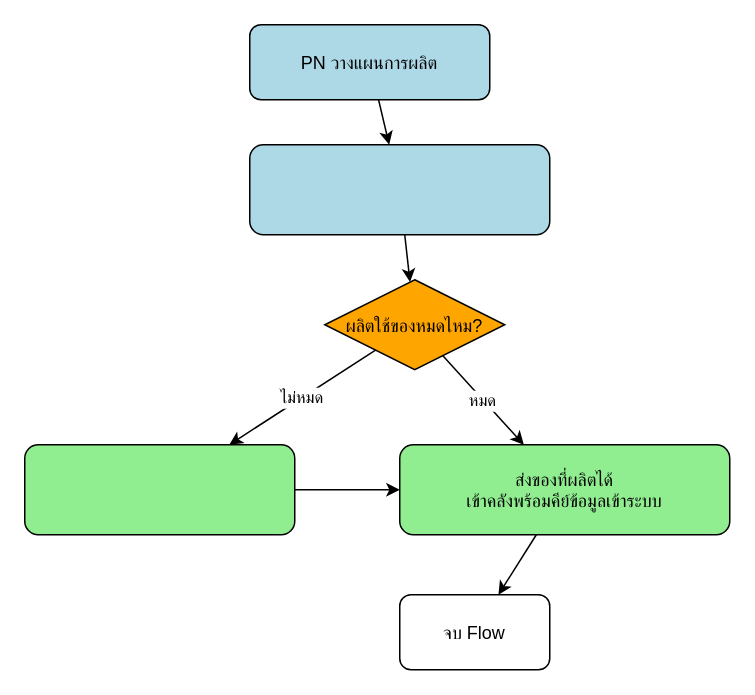
Image size: 755x695. Some labels were removed from this diagram. The centre of each missing label's shape, as x and y in pixels:
PD เบิก RM/WIP/FG พร้อมคีย์ข้อมูลการเบิกเข้าระบบ: the point at 399,189
ส่งของคืนคลัง พร้อมคีย์ข้อมูลเข้าระบบ: the point at 159,489
